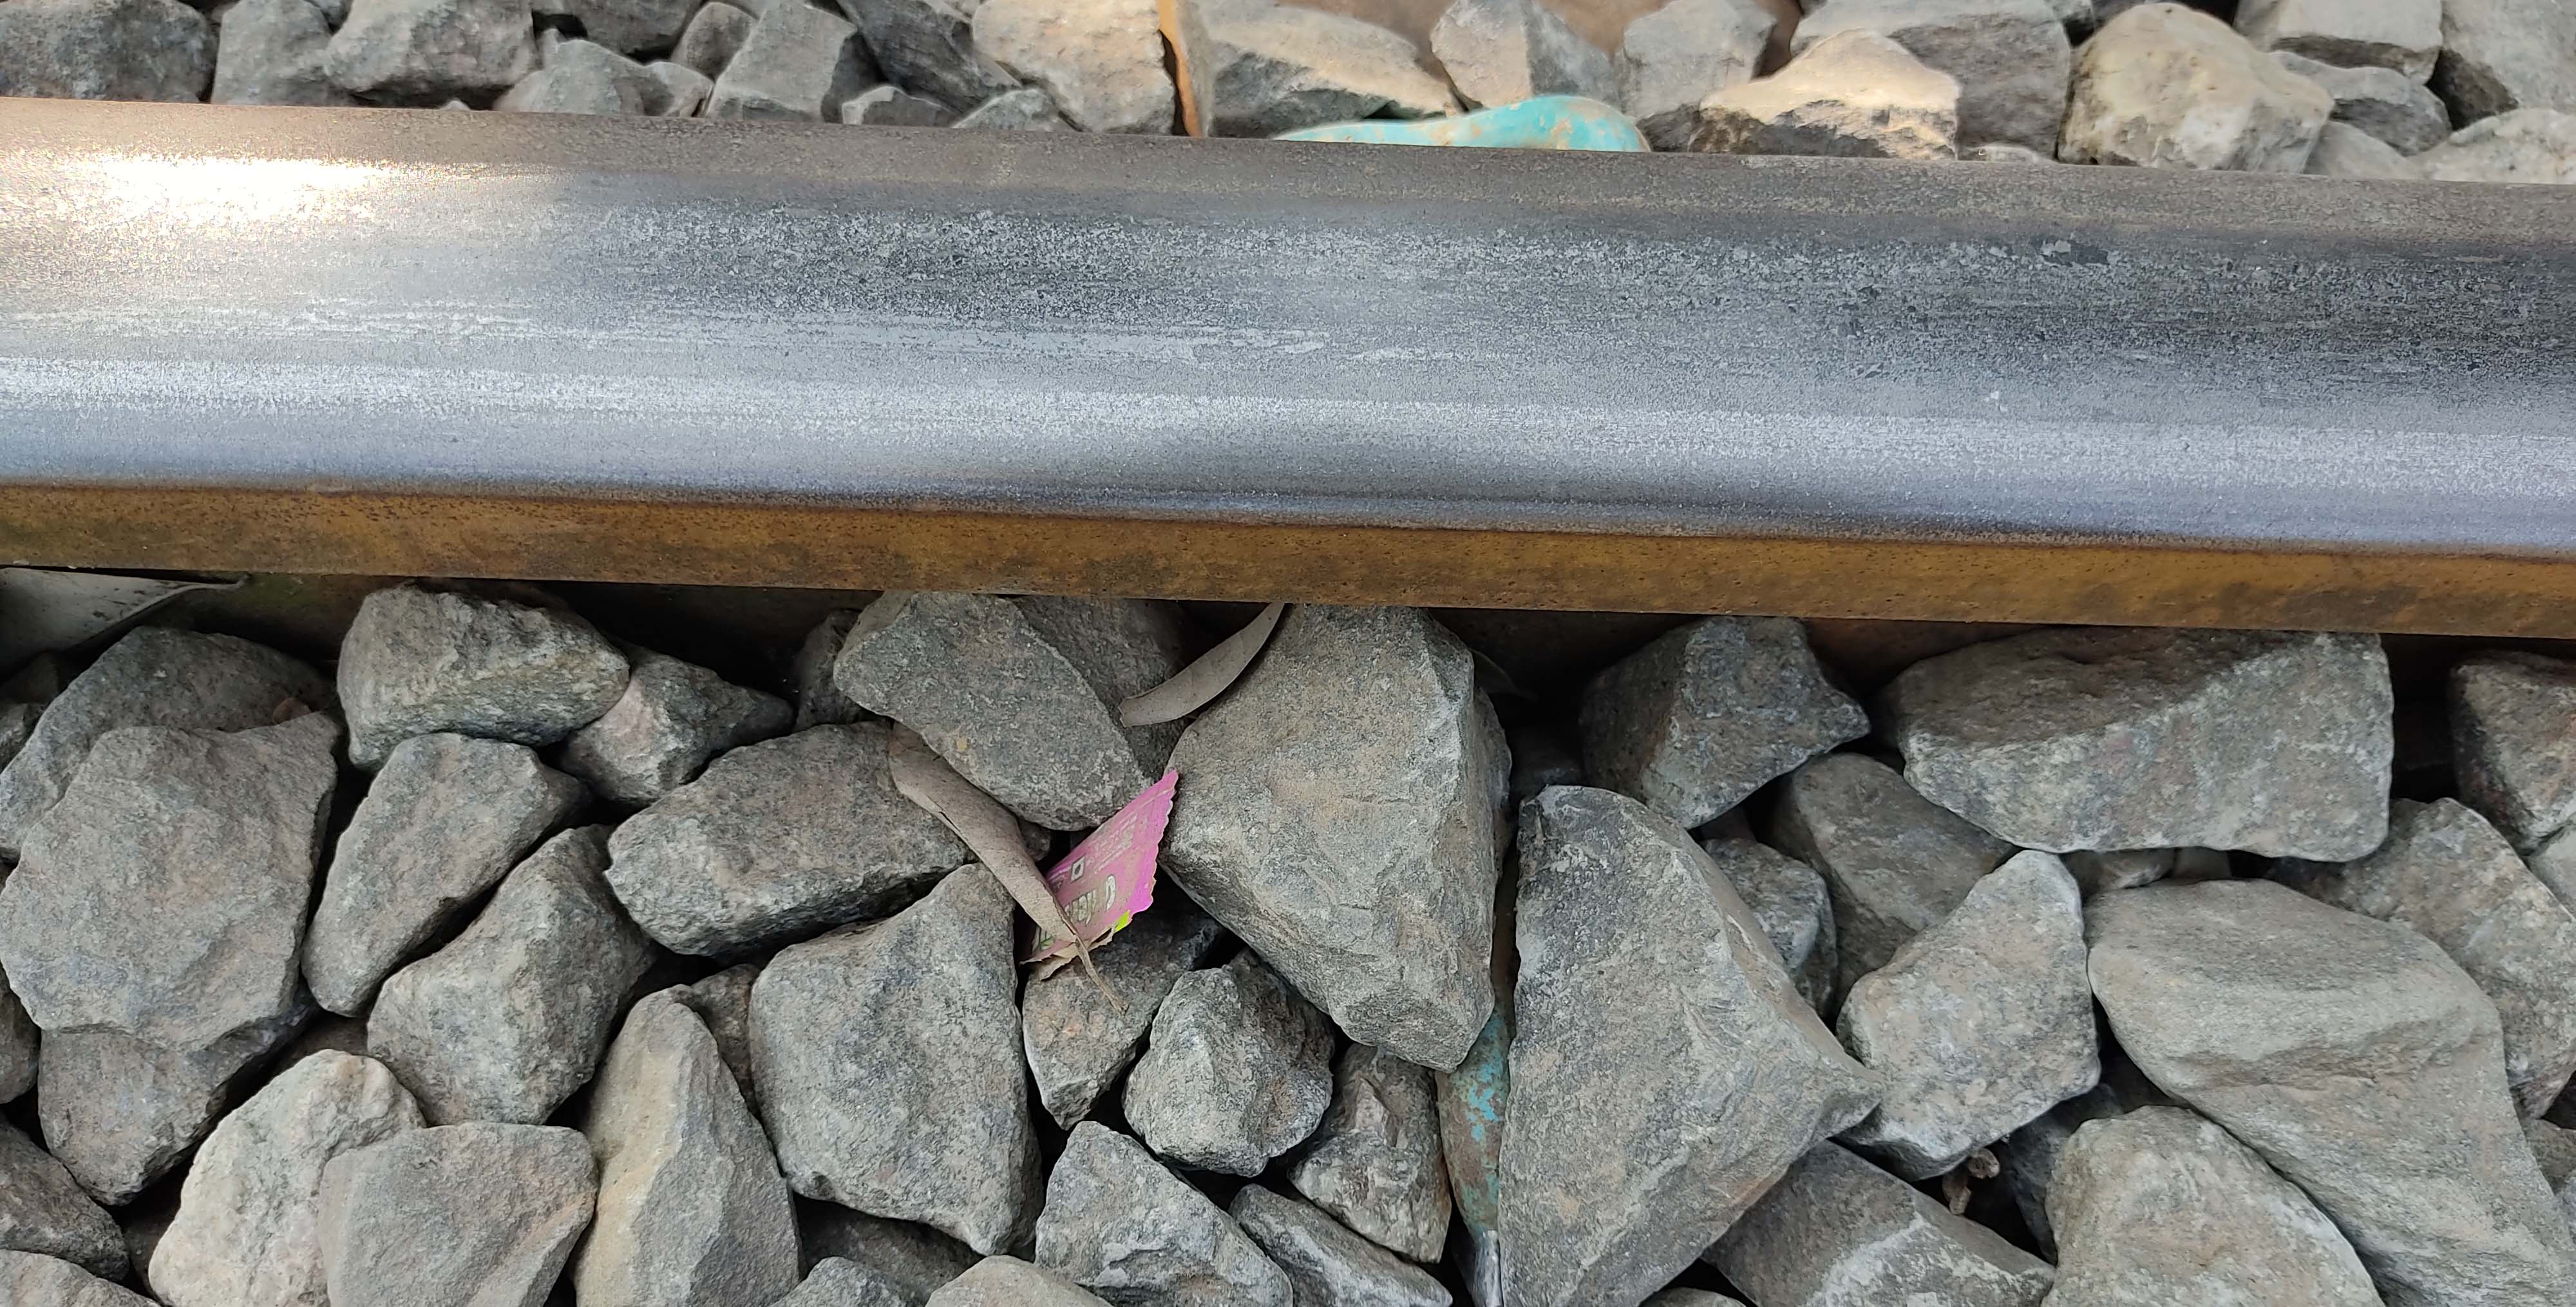error1: (1233, 50, 1683, 203)
